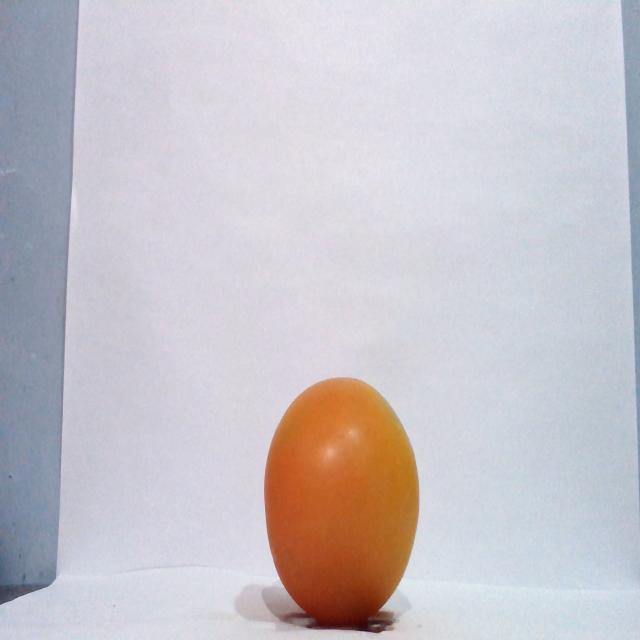Red: (262, 375, 420, 626)
